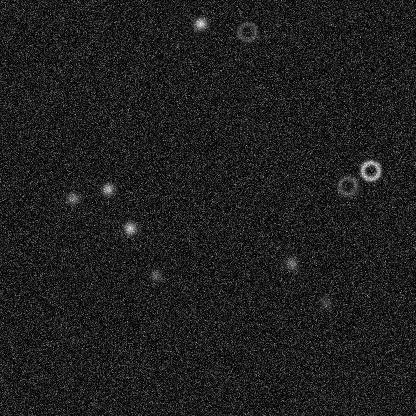Ring: (335, 173, 359, 197), (235, 19, 259, 43), (358, 158, 382, 182)
Spot: (317, 294, 333, 310), (192, 15, 208, 31), (147, 267, 163, 283), (99, 181, 115, 197), (283, 255, 299, 271), (121, 220, 137, 236), (64, 190, 80, 206)
